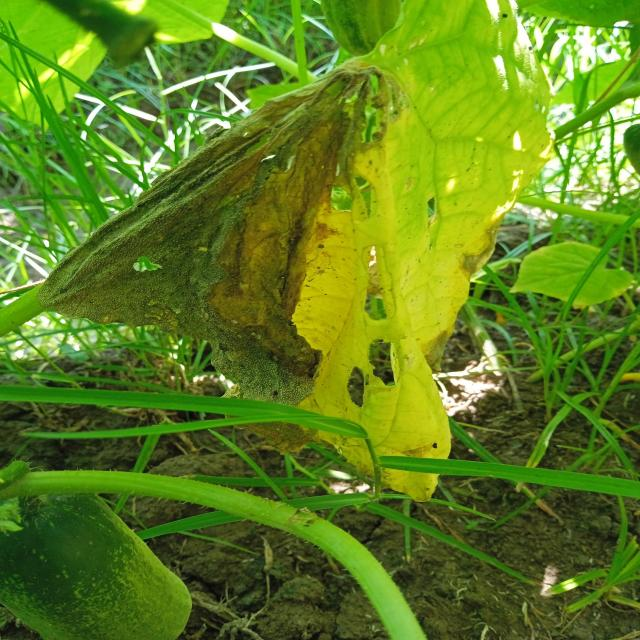cucumber_gummy: (29, 0, 576, 505)
